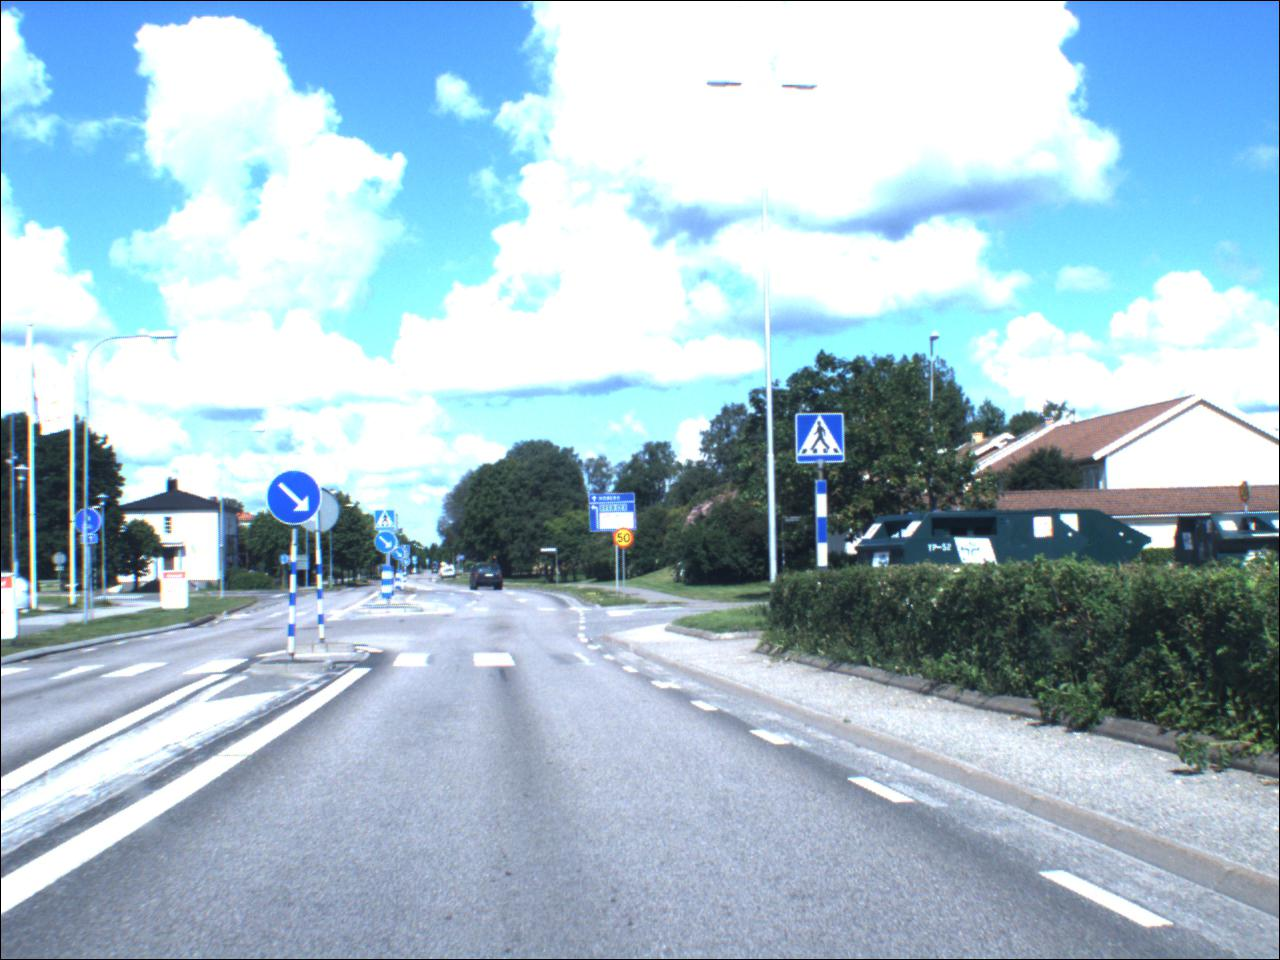50_SIGN: (614, 529, 636, 552)
PASS_RIGHT_SIDE: (269, 471, 324, 528), (375, 532, 401, 556)
PEDESTRIAN_CROSSING: (799, 415, 848, 465), (378, 511, 398, 532)
